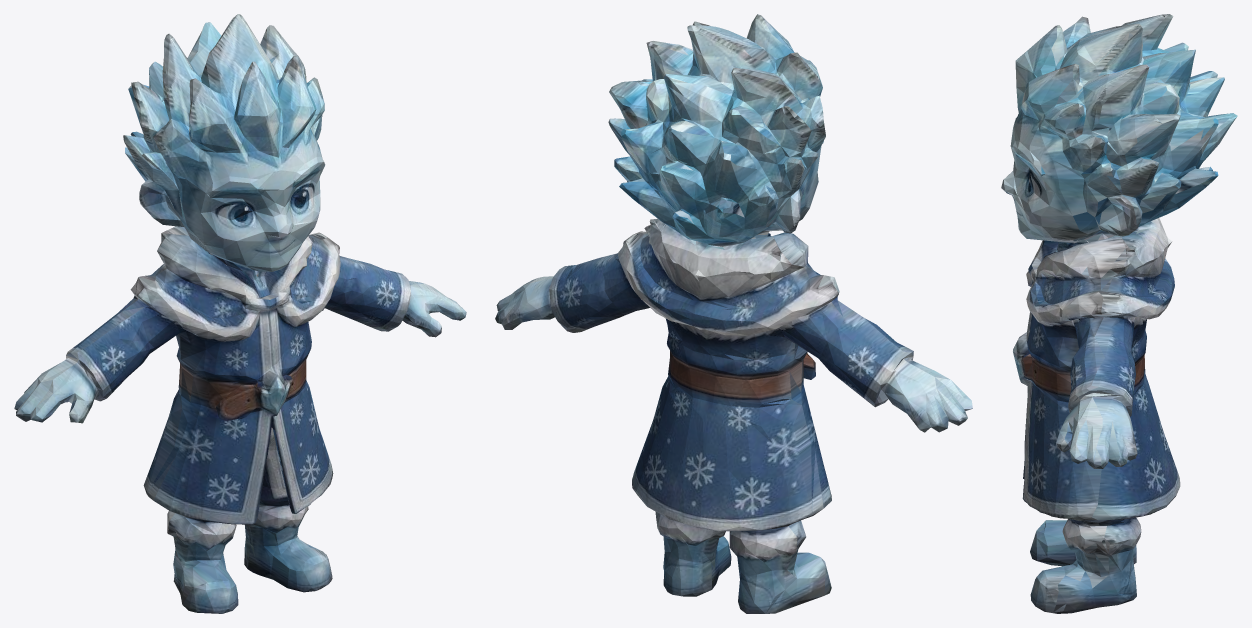
Rendered from v_buzbas.glb.
3 renders of one model, left to right at view 1: azimuth 30°, elevation 25°; view 2: azimuth 150°, elevation 25°; view 3: azimuth 270°, elevation 25°, orthographic. The views are drawn at different scales.
Parts seen in each view (by area): view 1: geometry_0; view 2: geometry_0; view 3: geometry_0.
Part boxes in pixels (box(x1,y1,x2,y2)): geometry_0: box(14, 14, 466, 613); geometry_0: box(495, 14, 972, 613); geometry_0: box(1001, 14, 1237, 613).
Size of the model in its own units: 0.853 by 1 by 0.38.
Materials: 1 (1 with a texture image).
